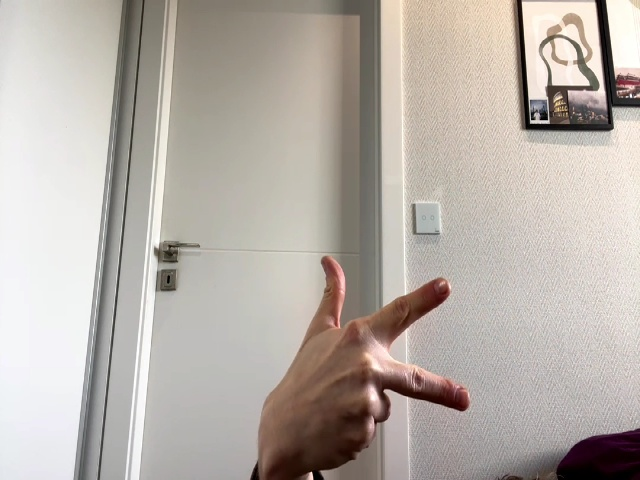K: (270, 257, 470, 450)
